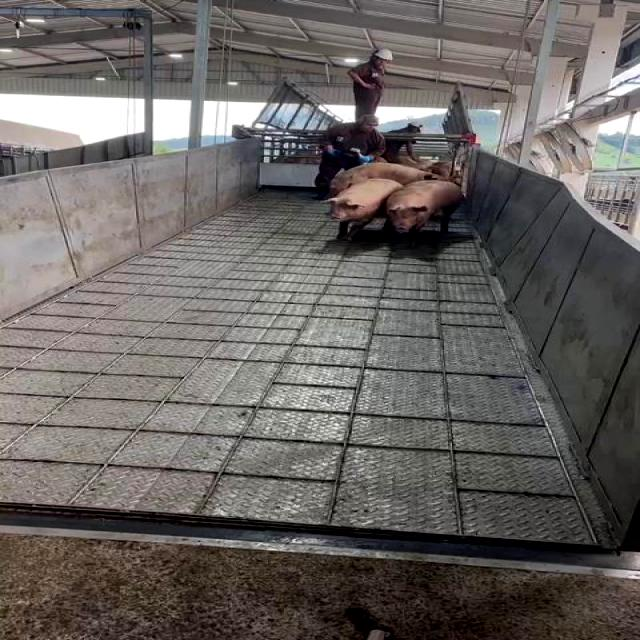pig: (325, 179, 400, 235), (386, 180, 463, 233), (330, 162, 442, 196)
